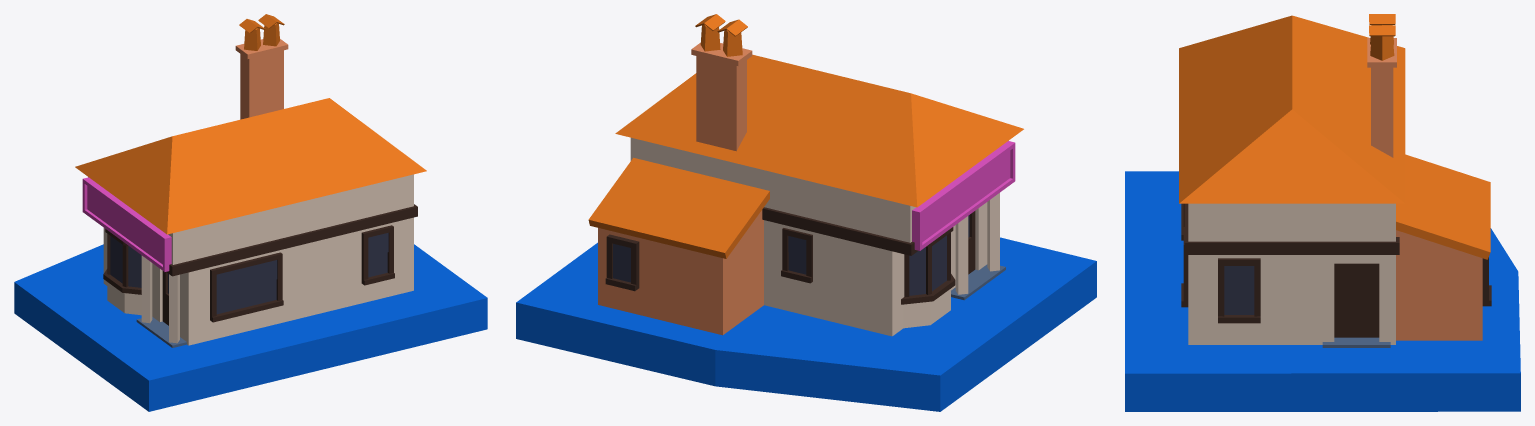
File: Bakery Building.fbx
3 views of the same model, side by side, from view 1: azimuth 30°, elevation 25°; view 2: azimuth 150°, elevation 25°; view 3: azimuth 270°, elevation 25° (orthographic). The views are drawn at different scales.
Parts seen in each view (by area): view 1: BakerY Foundation, Bakery Terra, Bakery White walls, Bakery Dark Wood, Bakery Windows, Bakery Sign, Bakery Brick, Plane.005; view 2: BakerY Foundation, Bakery Terra, Bakery White walls, Bakery Brick, Bakery Dark Wood, Bakery Sign, Bakery Windows, Plane.005; view 3: Bakery Terra, BakerY Foundation, Bakery White walls, Bakery Brick, Bakery Dark Wood, Bakery Windows, Plane.005.
Part boxes in pixels (x1,y1,x2,y2): BakerY Foundation: [14, 244, 487, 411]; Bakery Terra: [75, 14, 426, 234]; Bakery White walls: [88, 174, 413, 345]; Bakery Dark Wood: [103, 204, 417, 325]; Bakery Windows: [110, 232, 388, 314]; Bakery Sign: [82, 177, 171, 271]; Bakery Brick: [235, 39, 288, 119]; Plane.005: [136, 317, 186, 347]; BakerY Foundation: [516, 237, 1096, 411]; Bakery Terra: [588, 14, 1023, 258]; Bakery White walls: [630, 137, 1008, 336]; Bakery Brick: [598, 43, 763, 335]; Bakery Dark Wood: [605, 207, 975, 304]; Bakery Sign: [912, 141, 1015, 250]; Bakery Windows: [613, 215, 969, 295]; Plane.005: [951, 264, 1005, 300]; Bakery Terra: [1179, 14, 1490, 259]; BakerY Foundation: [1125, 171, 1520, 411]; Bakery White walls: [1188, 203, 1395, 344]; Bakery Brick: [1367, 38, 1482, 340]; Bakery Dark Wood: [1181, 203, 1491, 337]; Bakery Windows: [1224, 266, 1254, 314]; Plane.005: [1322, 337, 1390, 347].
Size of the model in its own units: 17.66 by 13.02 by 14.59.
